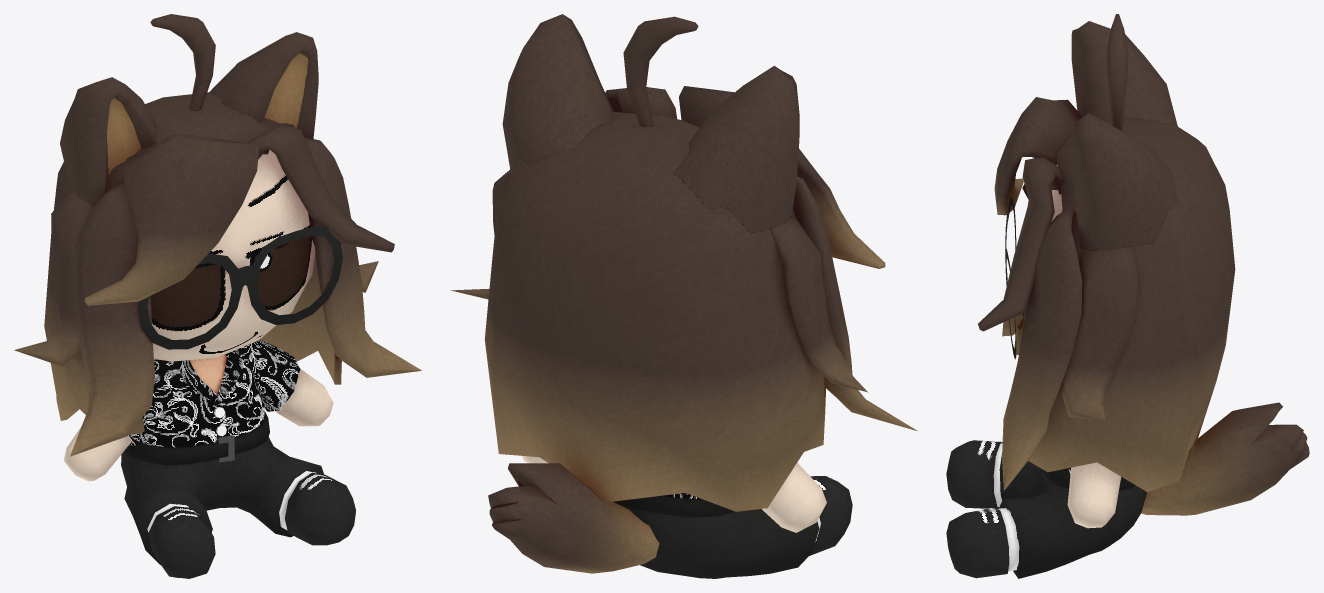
File: Rora.glb
The picture shows the model from 3 angles, left to right: view 1: azimuth 30°, elevation 25°; view 2: azimuth 150°, elevation 25°; view 3: azimuth 270°, elevation 25°; orthographic projection. The views are drawn at different scales.
Parts seen in each view (by area): view 1: Cube.016; view 2: Cube.016; view 3: Cube.016.
Part boxes in pixels (x1=…): Cube.016: x1=14, y1=14, x2=421, y2=578; Cube.016: x1=450, y1=14, x2=917, y2=578; Cube.016: x1=946, y1=14, x2=1309, y2=578.
Size of the model in its own units: 0.8969 by 1.18 by 0.7561.
Materials: 1 (1 with a texture image).
